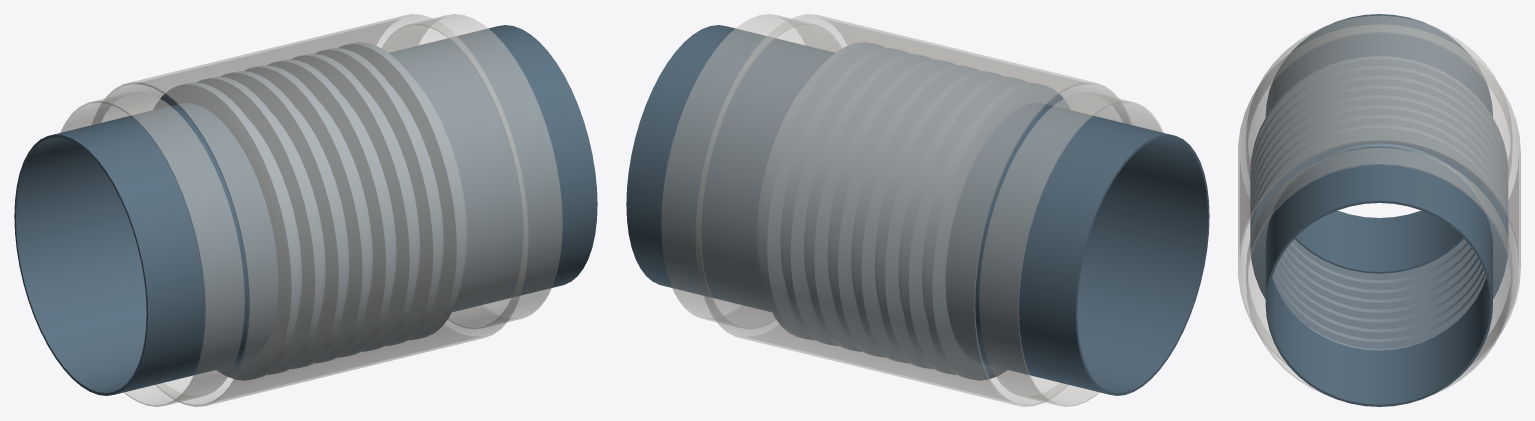
The model's file is ppu-dn800-L1592-D820-k-o1020.glb.
3 renders of one model, left to right at view 1: azimuth 30°, elevation 25°; view 2: azimuth 150°, elevation 25°; view 3: azimuth 270°, elevation 25°, orthographic. The views are drawn at different scales.
Visible parts, largest first — view 1: uslovno_kozhuh_ppu, patrubok_1, prokladka_silfon_1, patrubok_2, uslovno_obolochka_l, uslovno_obolochka_r; view 2: uslovno_kozhuh_ppu, patrubok_1, prokladka_silfon_1, patrubok_2, uslovno_obolochka_l, uslovno_obolochka_r; view 3: prokladka_silfon_1, uslovno_kozhuh_ppu, patrubok_2, patrubok_1, uslovno_obolochka_r, uslovno_obolochka_l.
Part boxes in pixels (bbox=[...]): uslovno_kozhuh_ppu: bbox=[92, 14, 528, 406]; patrubok_1: bbox=[14, 103, 278, 395]; prokladka_silfon_1: bbox=[153, 42, 467, 380]; patrubok_2: bbox=[389, 25, 597, 312]; uslovno_obolochka_l: bbox=[60, 91, 244, 406]; uslovno_obolochka_r: bbox=[382, 14, 562, 328]; uslovno_kozhuh_ppu: bbox=[695, 14, 1131, 406]; patrubok_1: bbox=[945, 103, 1209, 395]; prokladka_silfon_1: bbox=[756, 42, 1070, 380]; patrubok_2: bbox=[626, 25, 834, 312]; uslovno_obolochka_l: bbox=[979, 91, 1163, 406]; uslovno_obolochka_r: bbox=[661, 14, 841, 328]; prokladka_silfon_1: bbox=[1250, 56, 1508, 350]; uslovno_kozhuh_ppu: bbox=[1238, 24, 1520, 365]; patrubok_2: bbox=[1265, 146, 1492, 406]; patrubok_1: bbox=[1265, 14, 1492, 273]; uslovno_obolochka_r: bbox=[1246, 147, 1512, 395]; uslovno_obolochka_l: bbox=[1246, 15, 1512, 179].
Size of the model in its own units: 1592 by 1019 by 1019.
